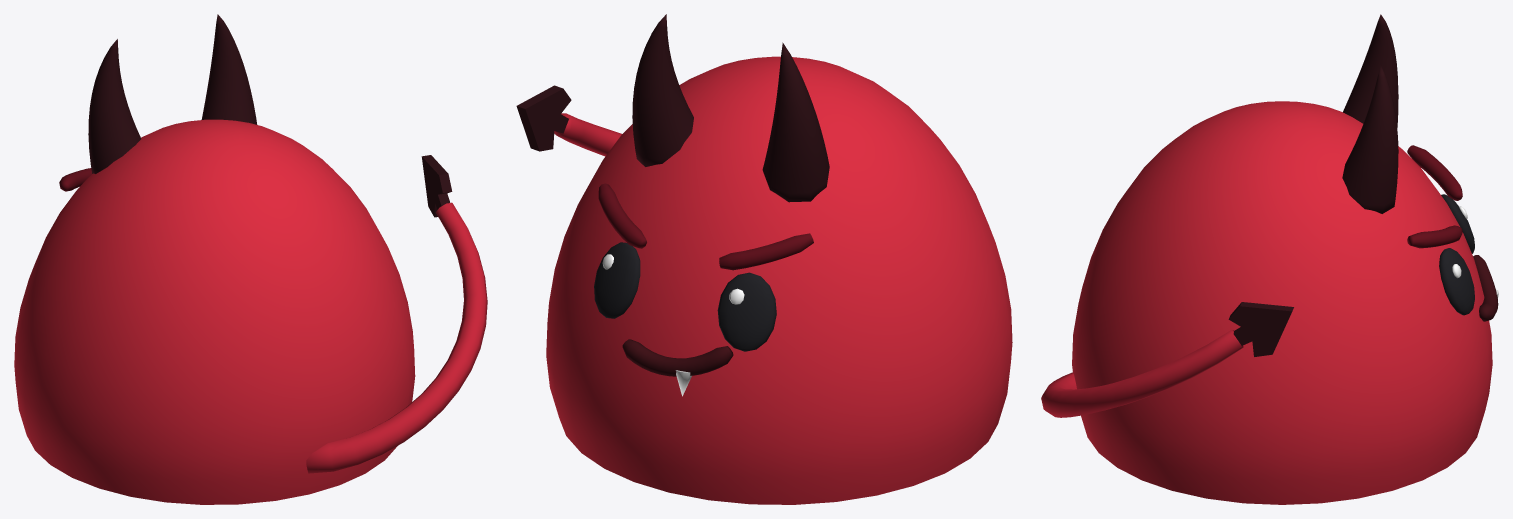
The model's file is Devil.glb.
3 views of the same model, side by side, from view 1: azimuth 30°, elevation 25°; view 2: azimuth 150°, elevation 25°; view 3: azimuth 270°, elevation 25° (orthographic). The views are drawn at different scales.
Visible parts, largest first — view 1: Body, Tail, Horns, TailTip; view 2: Body, Horns, Eyes, Brows, TailTip, Mouth, Tail; view 3: Body, Horns, Tail, TailTip, Eyes, Brows, Mouth.
Boxes of the visible parts, x1,y1,x2,y2 form: Body: (14, 119, 415, 504); Tail: (306, 202, 487, 473); Horns: (88, 14, 257, 173); TailTip: (421, 155, 452, 217); Body: (546, 56, 1012, 504); Horns: (632, 14, 829, 202); Eyes: (594, 242, 776, 351); Brows: (598, 183, 813, 270); TailTip: (516, 85, 571, 151); Mouth: (622, 339, 733, 376); Tail: (554, 113, 621, 156); Body: (1072, 101, 1492, 504); Horns: (1342, 14, 1398, 213); Tail: (1041, 330, 1243, 417); TailTip: (1228, 302, 1293, 356); Eyes: (1439, 194, 1474, 315); Brows: (1407, 145, 1462, 248); Mouth: (1473, 255, 1498, 321).
Size of the model in its own units: 5.11 by 4.5 by 4.89.
